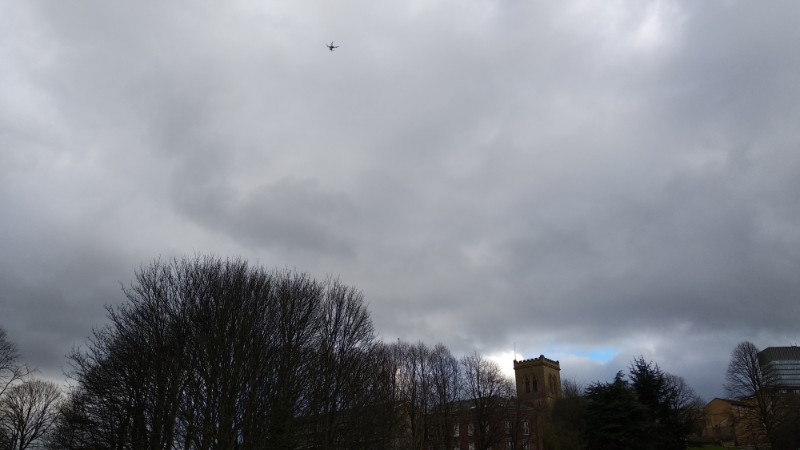drone: (324, 42, 340, 51)
